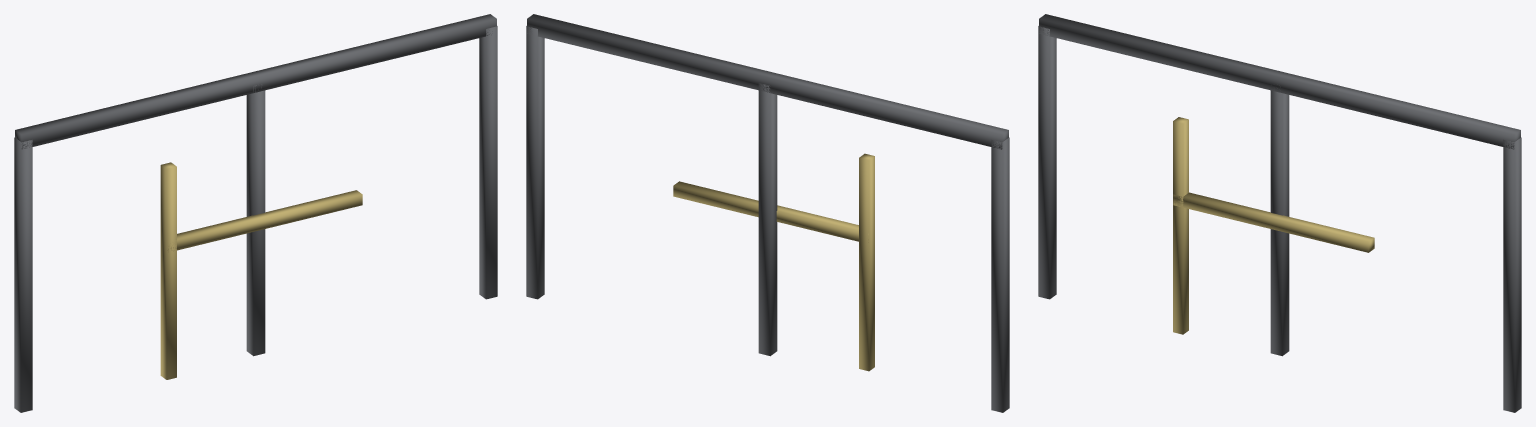
Rendered from industrial_gate_l180_h100.glb.
The picture shows the model from 3 angles, left to right: view 1: azimuth 30°, elevation 25°; view 2: azimuth 150°, elevation 25°; view 3: azimuth 330°, elevation 25°; orthographic projection.
Visible parts, largest first — view 1: world; view 2: world; view 3: world.
Boxes of the visible parts, bbox=[...] form: world: bbox=[14, 14, 497, 412]; world: bbox=[526, 14, 1009, 412]; world: bbox=[1038, 14, 1521, 412].
Bounding box in the file's own units: 1.85 × 1.03 × 0.0825.
